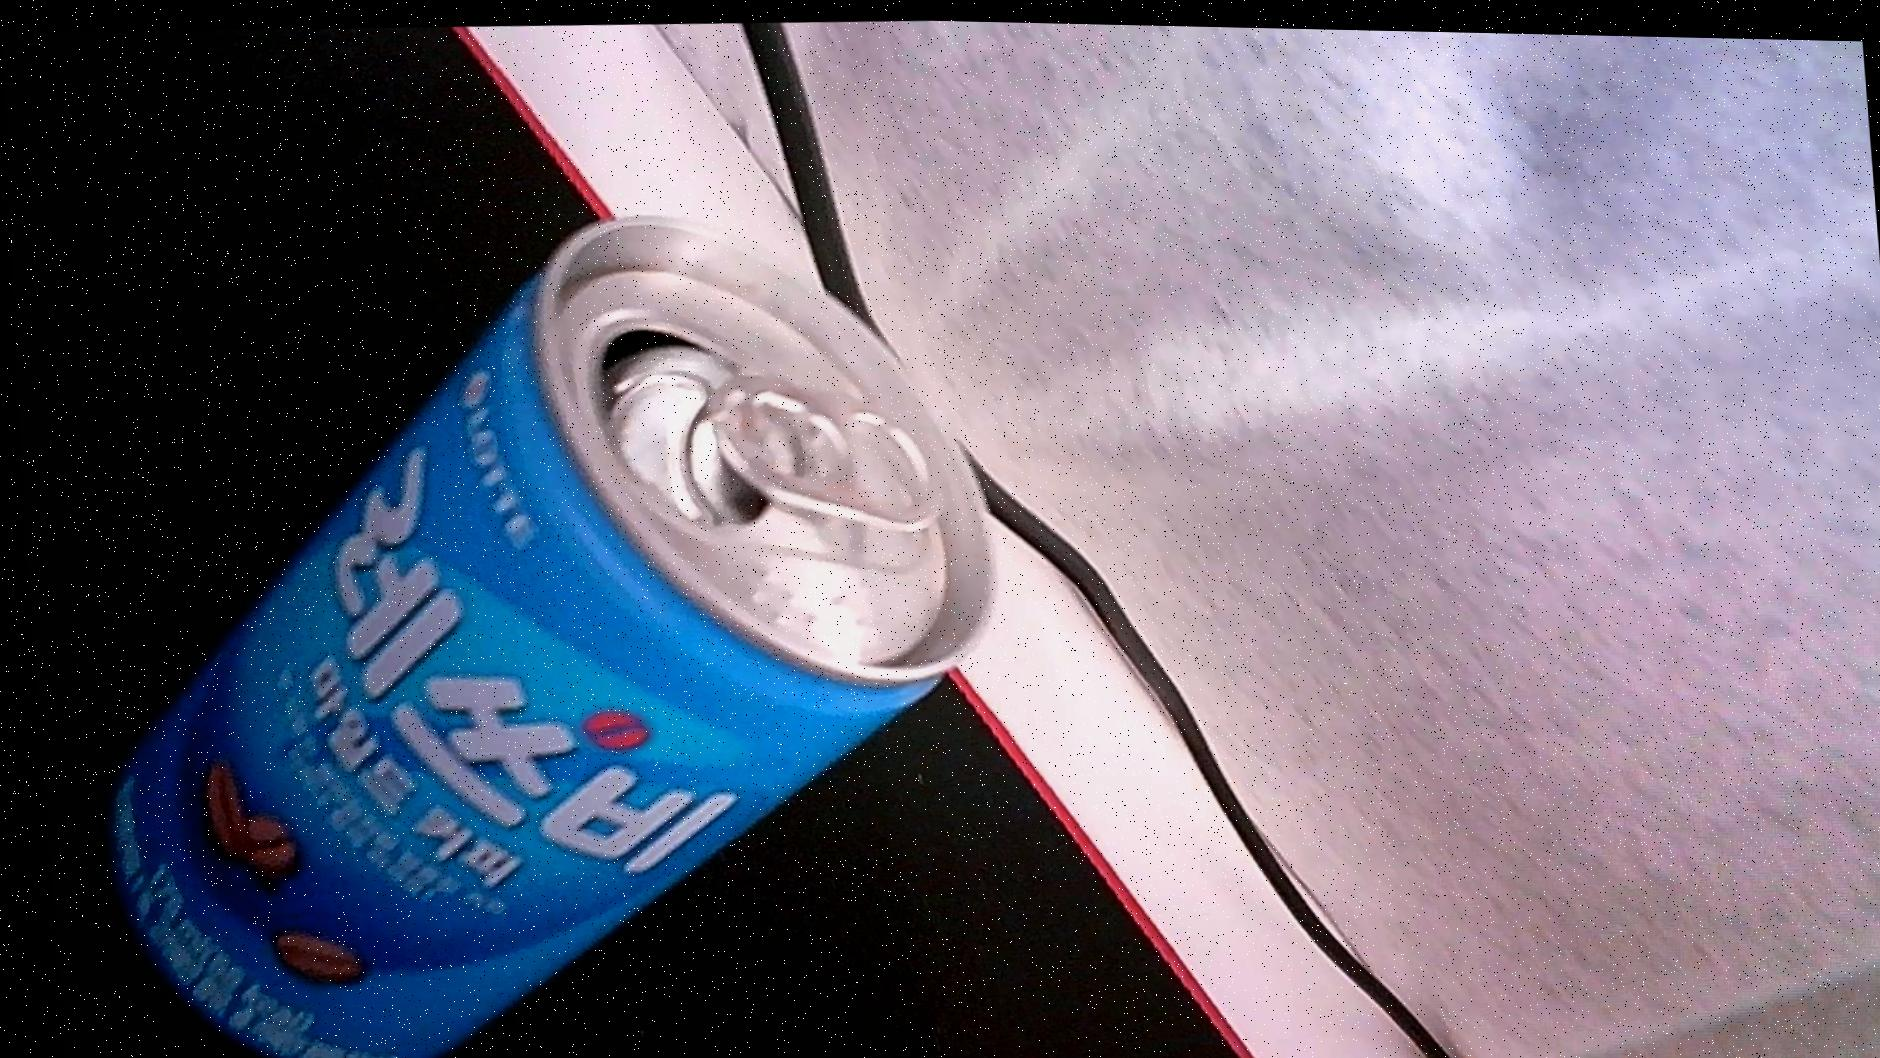letsbe: (58, 192, 1028, 1058)
